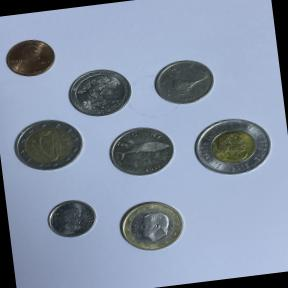coin: (188, 110, 278, 186), (6, 114, 90, 178), (114, 196, 190, 261), (103, 121, 181, 183), (62, 64, 138, 122), (42, 194, 104, 248), (1, 34, 61, 82)
